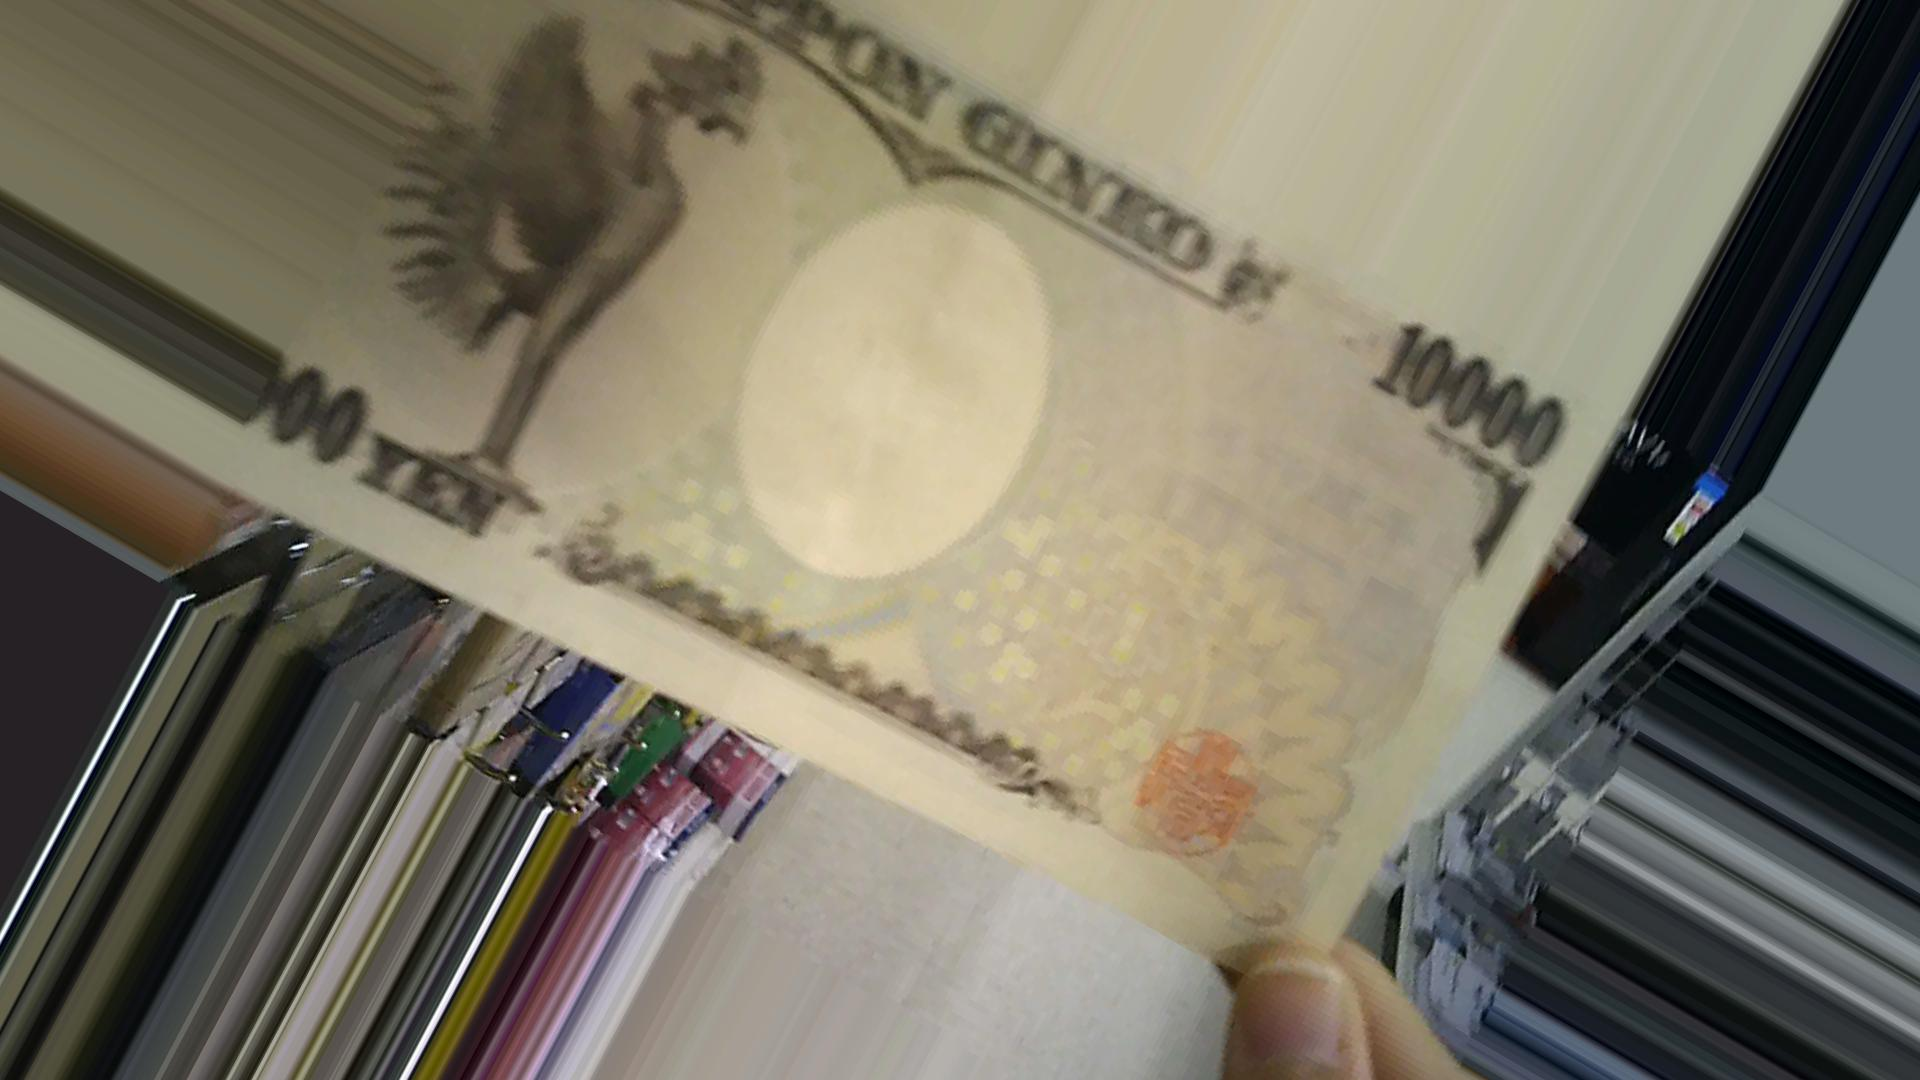10,000 Yen: (251, 1, 1561, 936)
